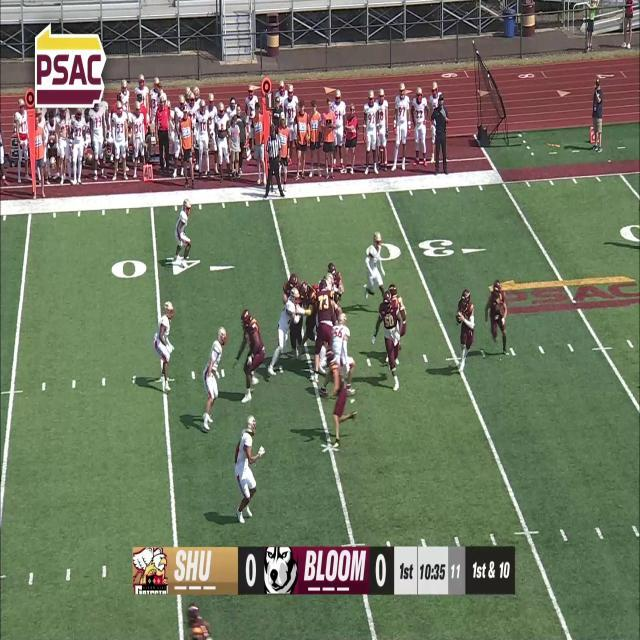football: (454, 310, 462, 328)
